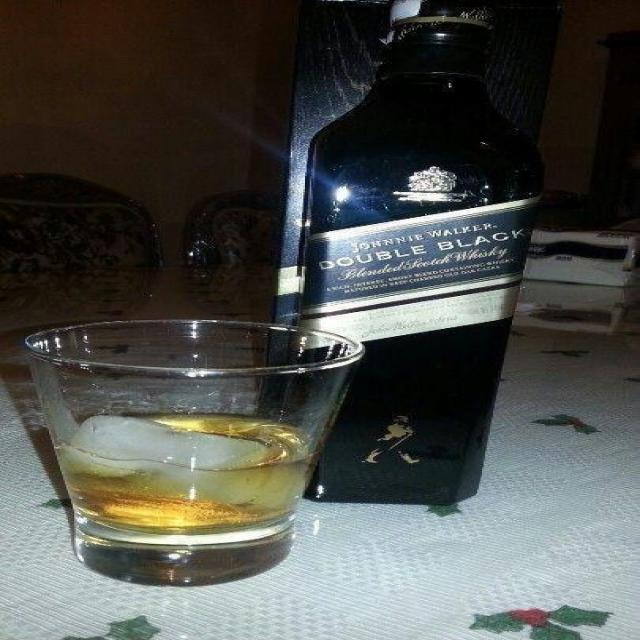bottle-glass: (281, 1, 547, 507)
glass-normal: (19, 316, 367, 586)
